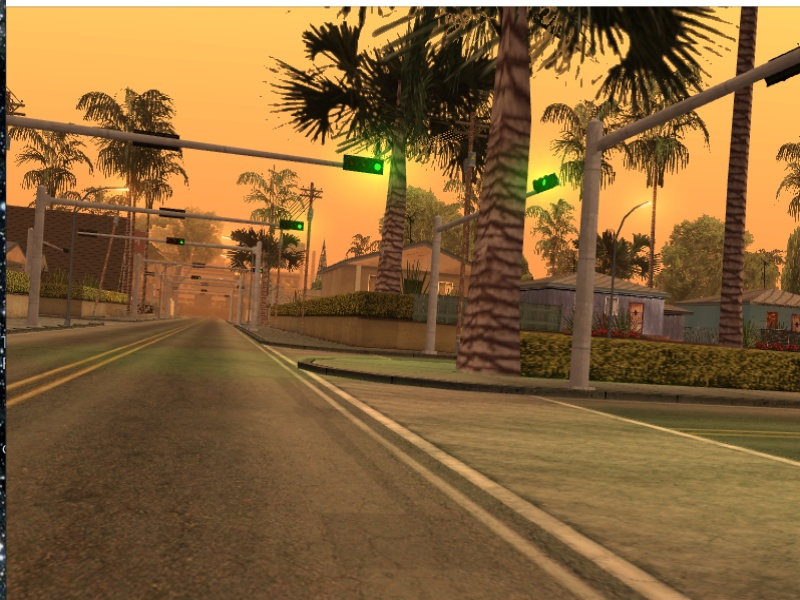pole: (571, 125, 611, 393), (31, 189, 45, 330), (428, 225, 438, 359), (251, 250, 264, 333), (128, 251, 142, 317)
tree: (486, 7, 526, 379)
